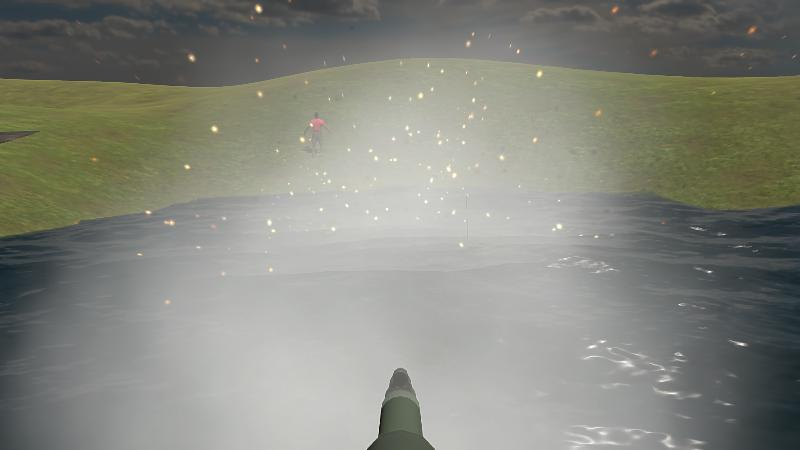Human: (300, 110, 332, 153)
